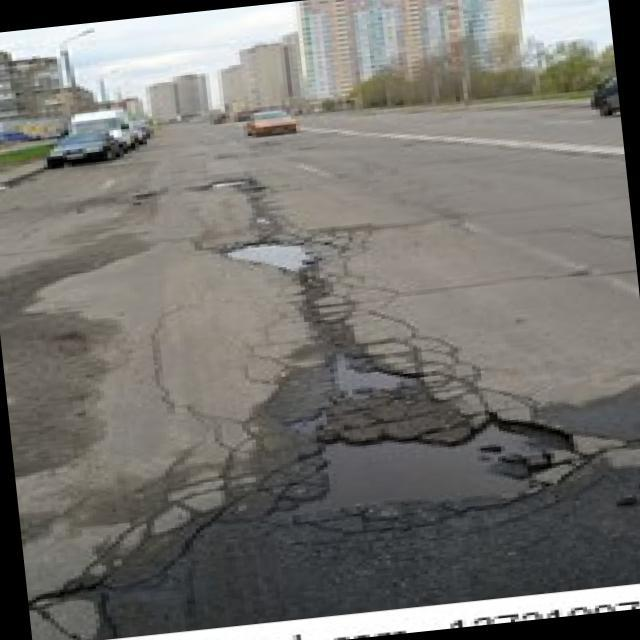Pothole: (296, 406, 583, 524), (332, 352, 430, 403), (222, 234, 312, 282), (212, 176, 256, 186)
